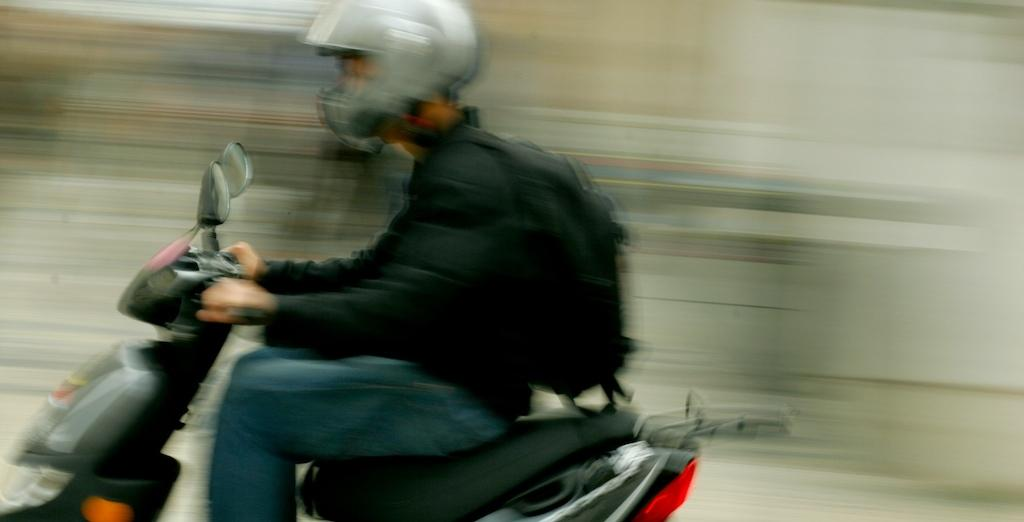helmet: (302, 0, 481, 154)
